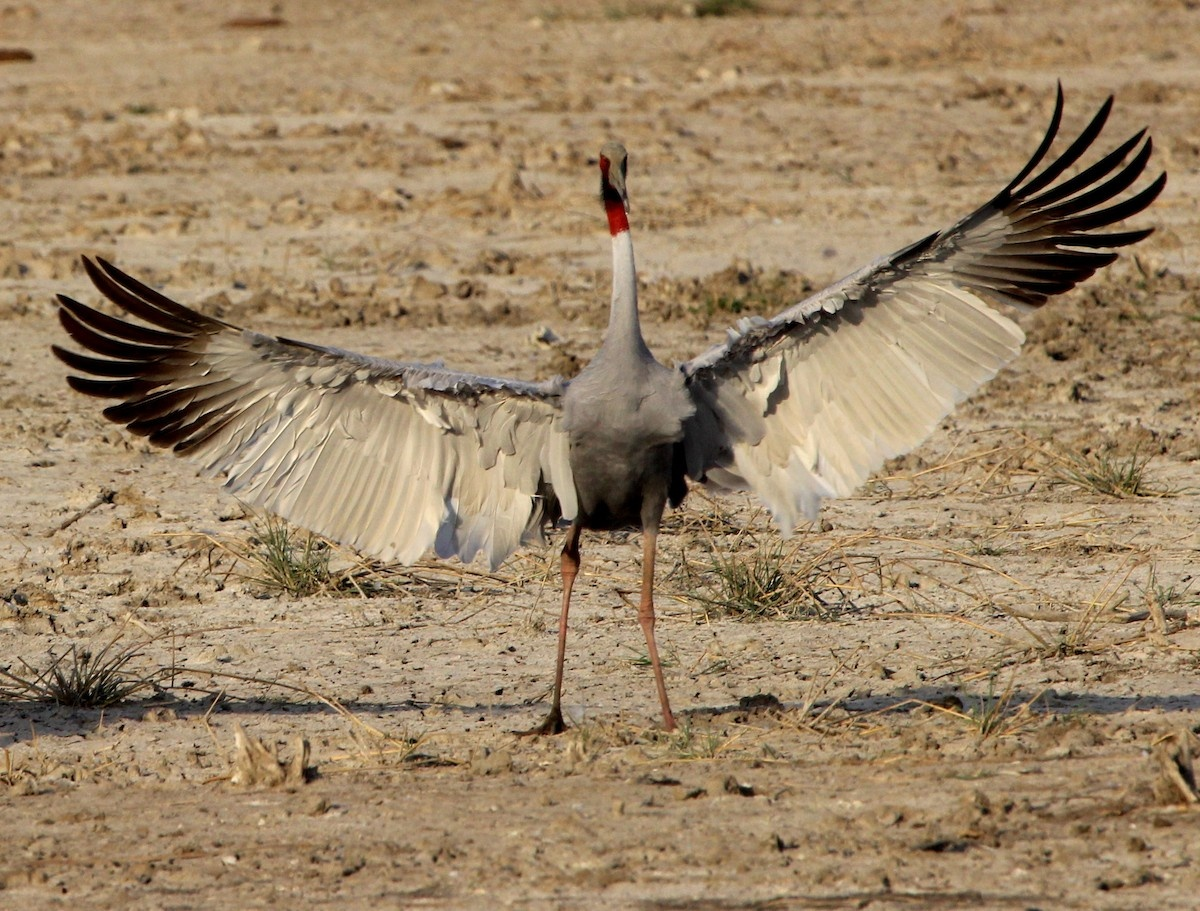crane: (63, 131, 1145, 735)
